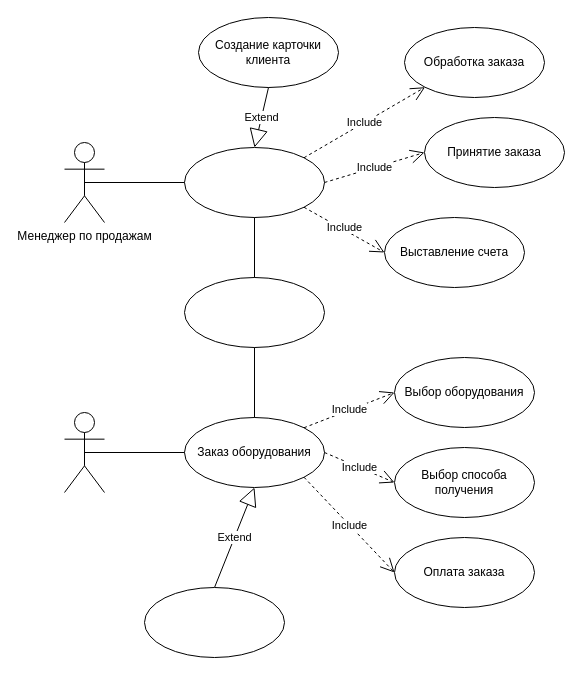
This 582x675 diagram has some shape labels left out. The shapes that lost their labels are listed below. From the top down, each one's centre as x and y in pixels, then its label:
point (254, 182): Общение с заказчиком
point (254, 312): Согласование сроков
point (84, 452): Заказчик
point (214, 622): Передача личных данных
